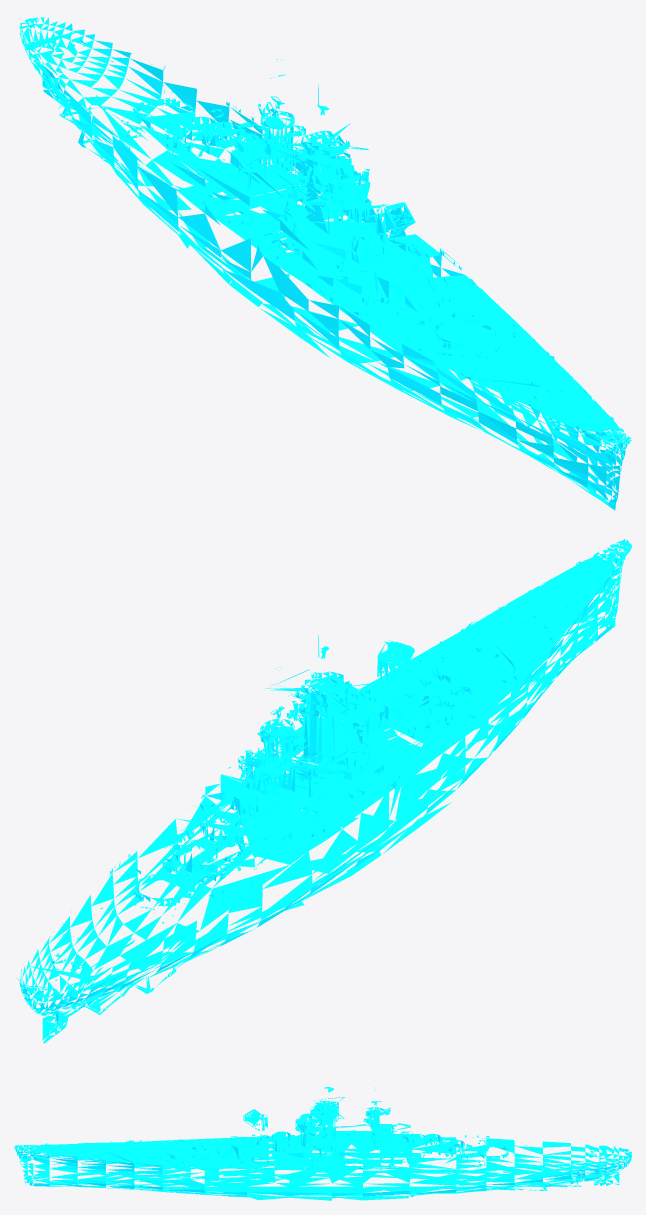
The model's file is Flandre.glb.
3 views of the same model, one above another, from view 1: azimuth 30°, elevation 25°; view 2: azimuth 150°, elevation 25°; view 3: azimuth 270°, elevation 25° (orthographic). The views are drawn at different scales.
Bounding box in the file's own units: 2.37 × 3.62 × 17.66.
